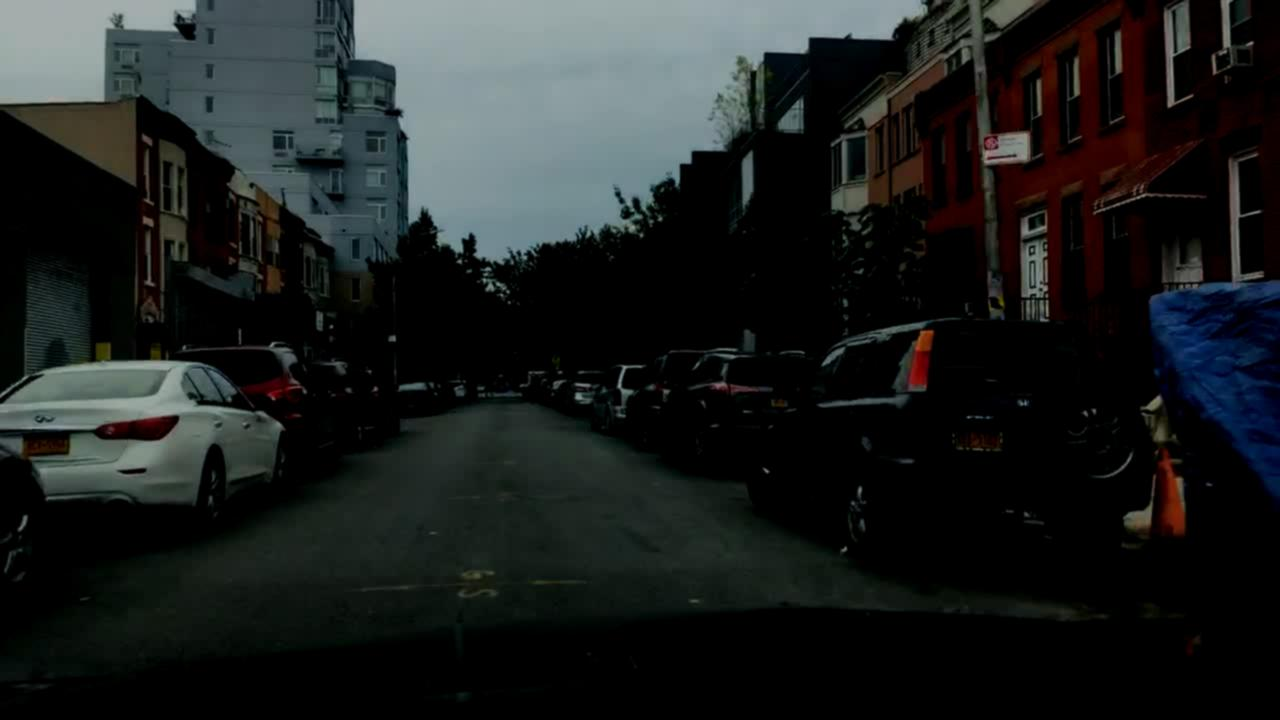Honda: (1014, 393, 1032, 412)
Infiniti: (30, 410, 61, 428)
